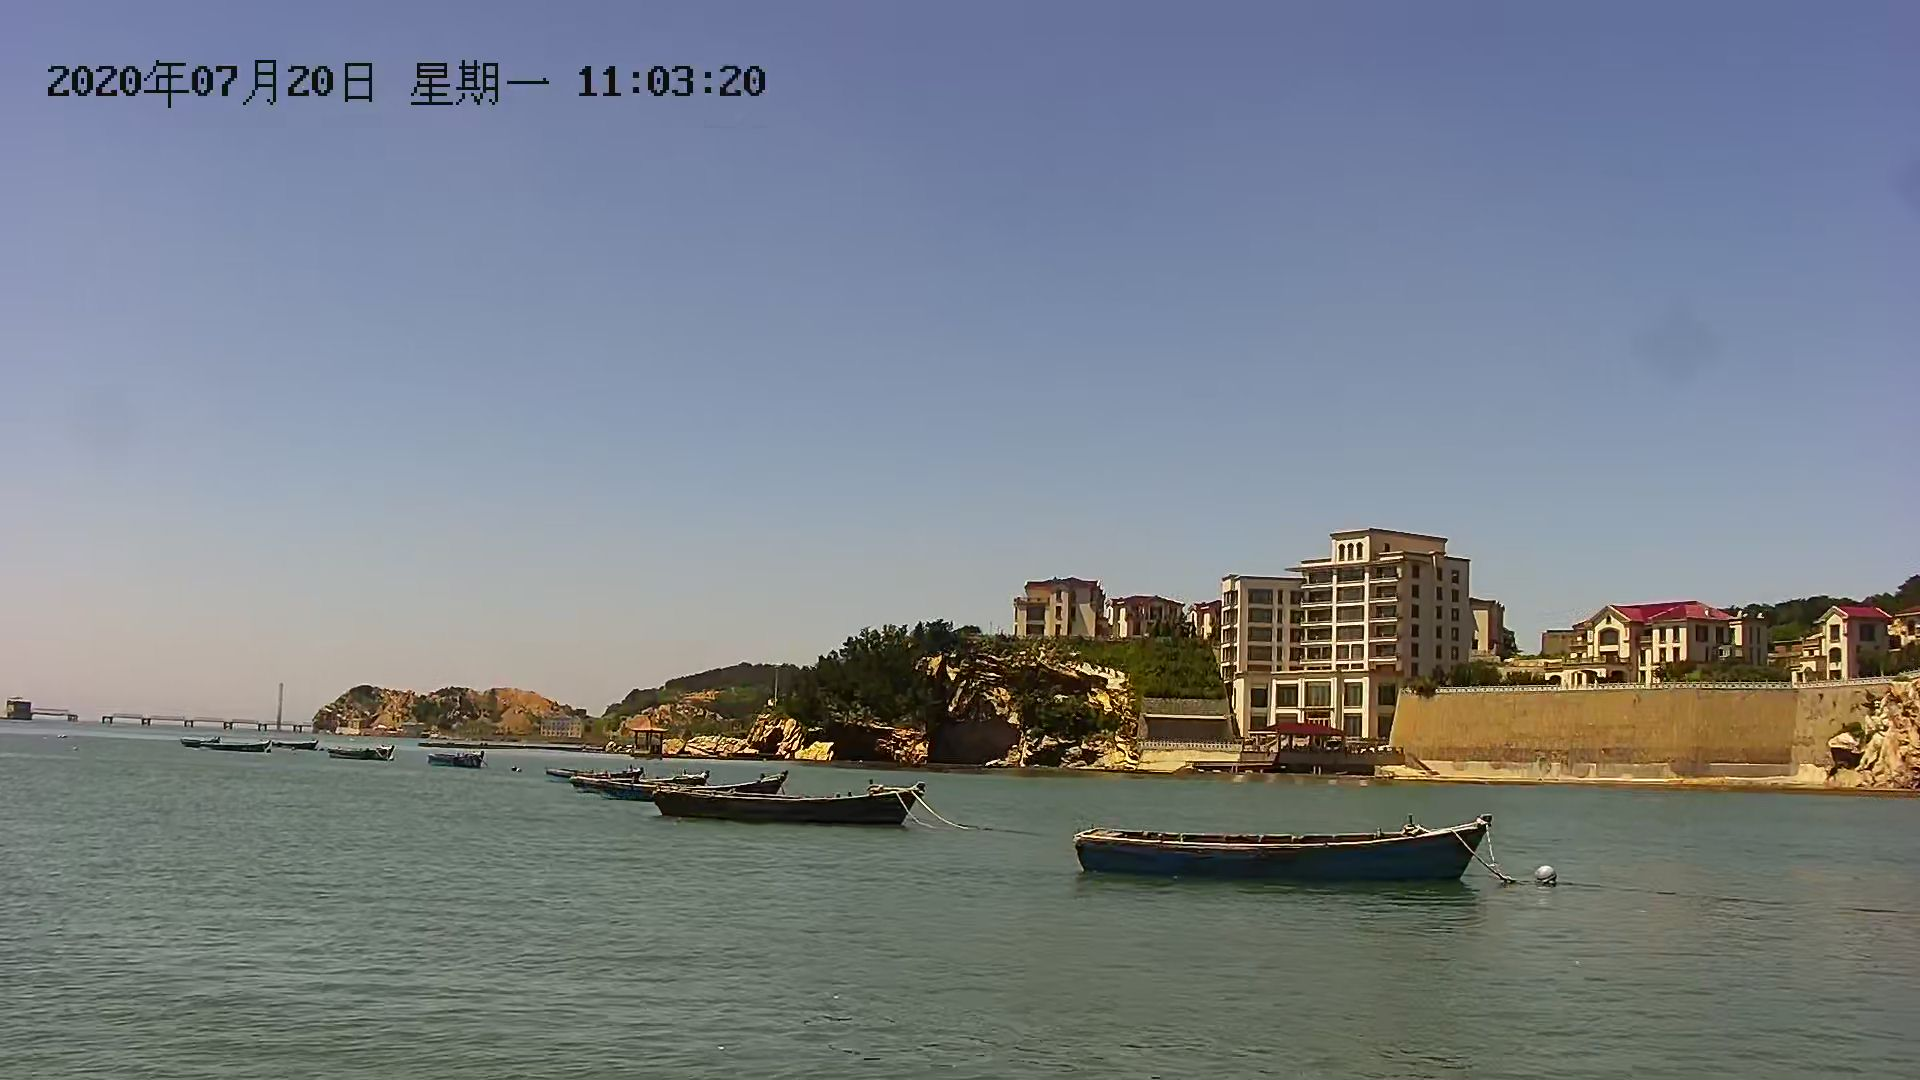ball: (1530, 858, 1563, 887)
boat: (1077, 811, 1484, 895), (644, 779, 928, 825), (324, 742, 401, 769), (418, 746, 487, 775), (204, 735, 272, 760), (272, 735, 323, 756)
harbor: (5, 694, 326, 736)
